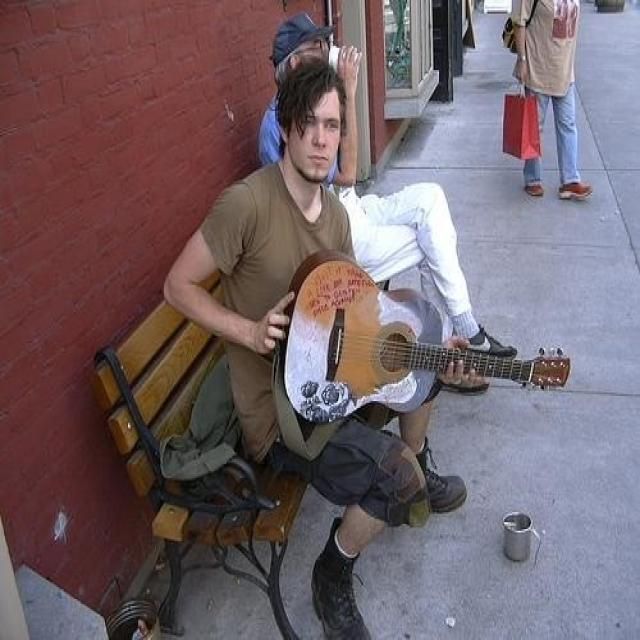guitar: (278, 248, 572, 424)
